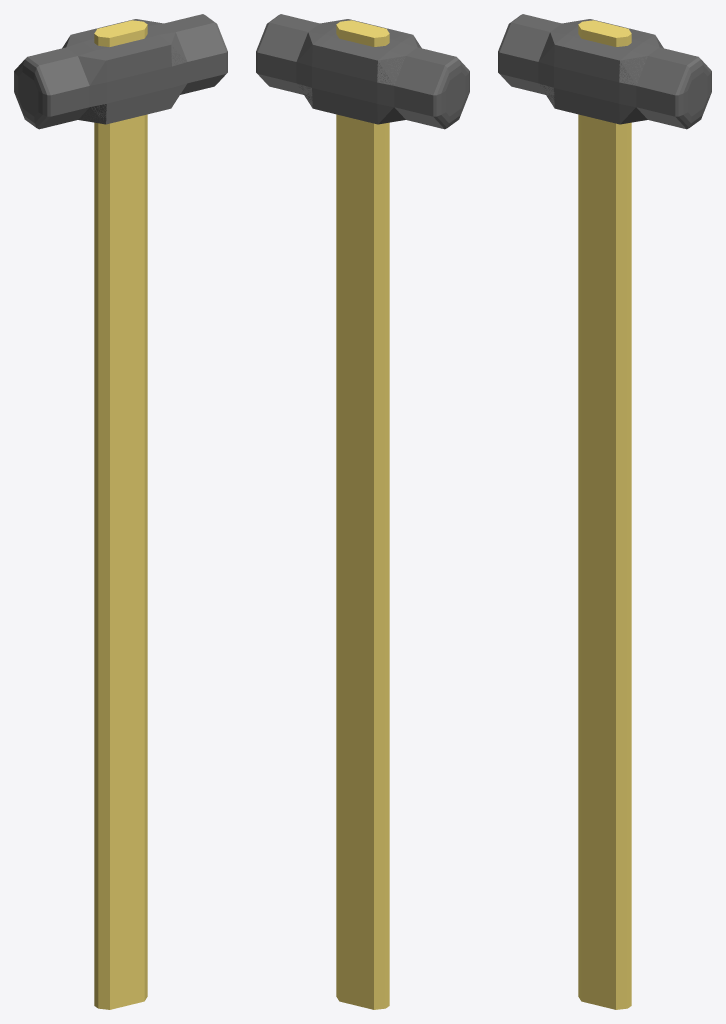
File: Sledge V3.glb
The picture shows the model from 3 angles, left to right: view 1: azimuth 30°, elevation 25°; view 2: azimuth 150°, elevation 25°; view 3: azimuth 330°, elevation 25°; orthographic projection.
Parts seen in each view (by area): view 1: Sledge -col; view 2: Sledge -col; view 3: Sledge -col.
Part boxes in pixels (bbox=[...]): Sledge -col: bbox=[14, 14, 227, 1009]; Sledge -col: bbox=[256, 14, 469, 1009]; Sledge -col: bbox=[498, 14, 711, 1009].
Size of the model in its own units: 0.1927 by 0.9652 by 0.0661.
